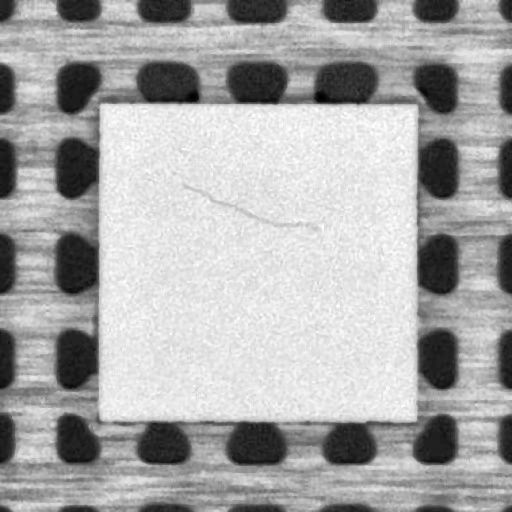DIE_CRACK: (180, 180, 317, 231)
